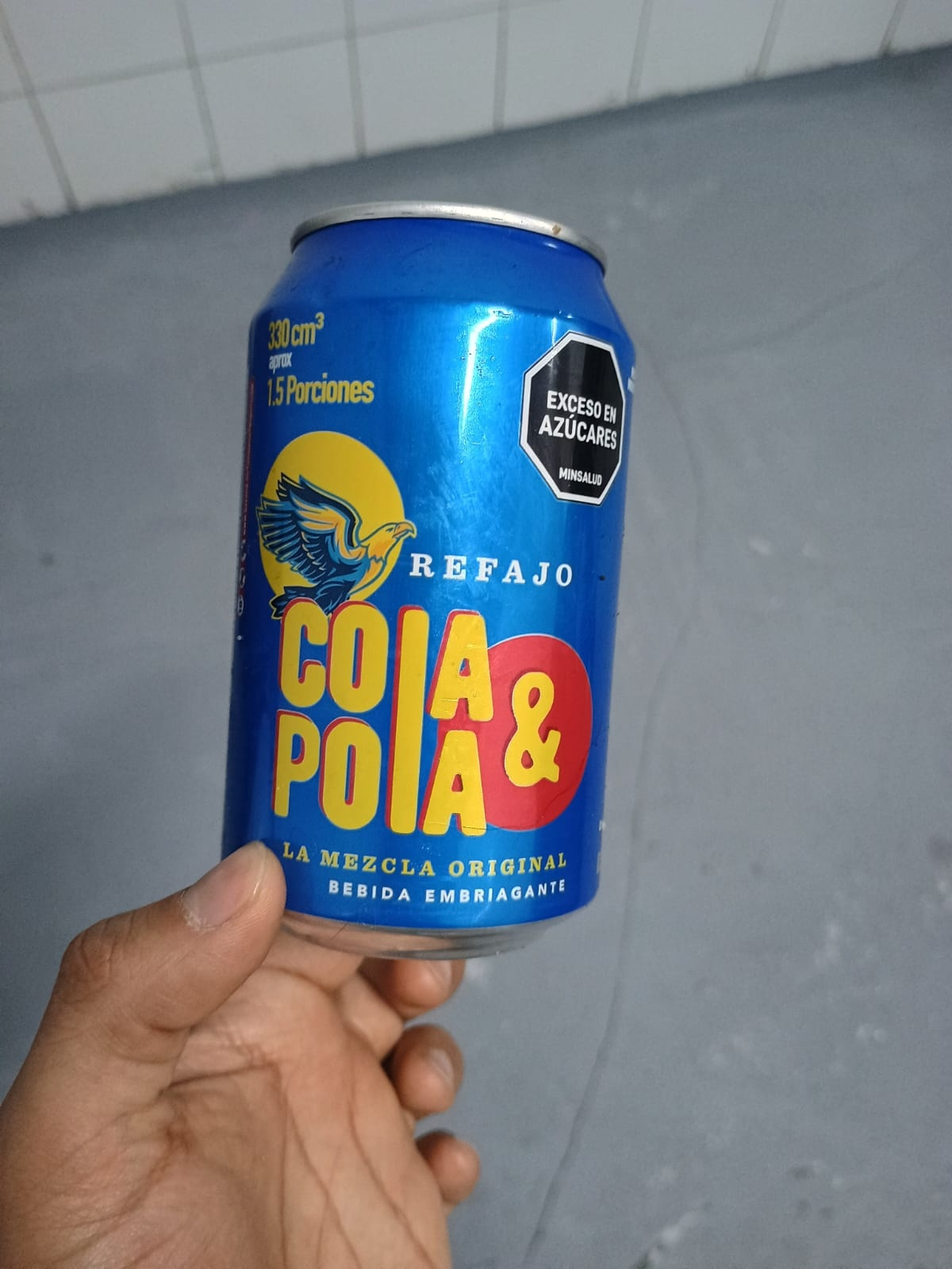Metal: (221, 204, 639, 956)
